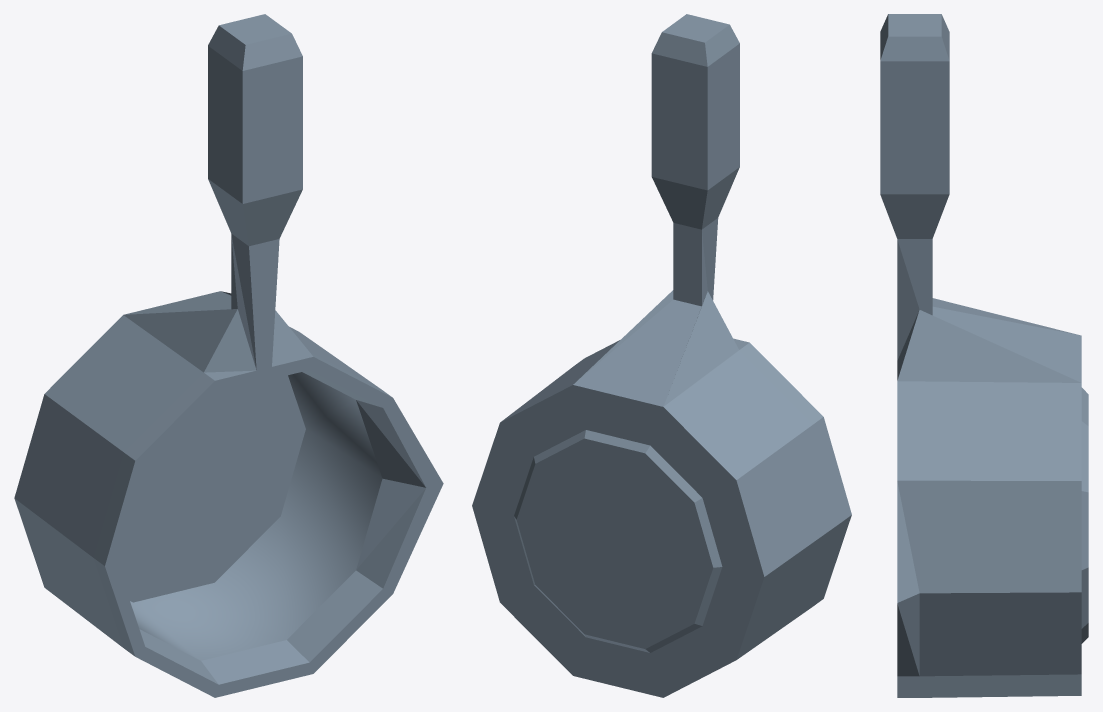
File: sauce_pan_visual.obj
3 views of the same model, side by side, from view 1: azimuth 30°, elevation 25°; view 2: azimuth 150°, elevation 25°; view 3: azimuth 270°, elevation 25° (orthographic). The views are drawn at different scales.
Visible parts, largest first — view 1: fryingPan_ID7.003; view 2: fryingPan_ID7.003; view 3: fryingPan_ID7.003.
Boxes of the visible parts, x1,y1,x2,y2 form: fryingPan_ID7.003: (14, 14, 443, 697); fryingPan_ID7.003: (472, 14, 851, 697); fryingPan_ID7.003: (880, 14, 1088, 697).
Size of the model in its own units: 0.4193 by 0.7688 by 0.2241.
